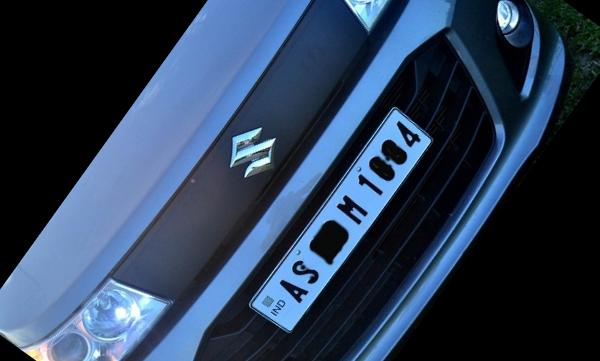plate: (234, 84, 455, 349)
